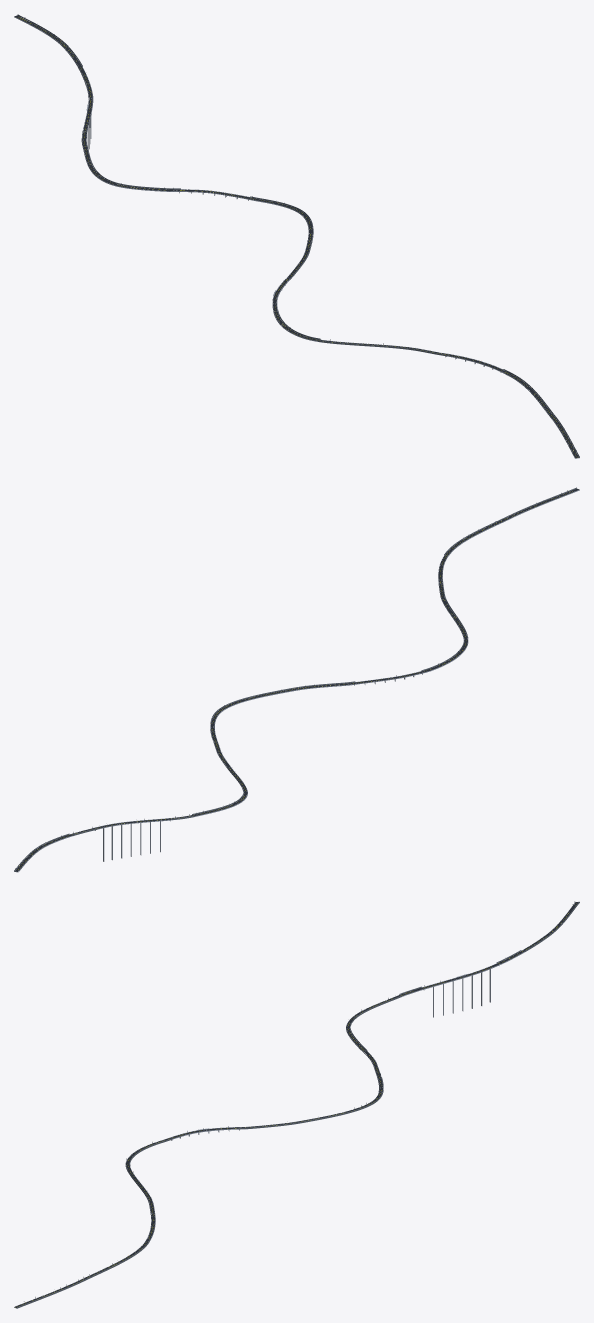
The model's file is deo_prenn_4lanes_viaducts.glb.
The picture shows the model from 3 angles, top to bottom: view 1: azimuth 30°, elevation 25°; view 2: azimuth 150°, elevation 25°; view 3: azimuth 330°, elevation 25°; orthographic projection. The views are drawn at different scales.
Parts seen in each view (by area): view 1: DeoPrenn_Asphalt_Roadway_Surface, DeoPrenn_Shoulders_And_Subgrade_Skirt, DeoPrenn_SplitGranite_Taluy_RetainingWalls; view 2: DeoPrenn_Asphalt_Roadway_Surface, DeoPrenn_Shoulders_And_Subgrade_Skirt, DeoPrenn_SplitGranite_Taluy_RetainingWalls, DeoPrenn_Cantilever_Viaducts_And_TPiers; view 3: DeoPrenn_Asphalt_Roadway_Surface, DeoPrenn_SplitGranite_Taluy_RetainingWalls, DeoPrenn_Cantilever_Viaducts_And_TPiers, DeoPrenn_Shoulders_And_Subgrade_Skirt.
Boxes of the visible parts, x1=… form: DeoPrenn_Asphalt_Roadway_Surface: x1=15, y1=15, x2=578, y2=457; DeoPrenn_Shoulders_And_Subgrade_Skirt: x1=14, y1=16, x2=579, y2=458; DeoPrenn_SplitGranite_Taluy_RetainingWalls: x1=17, y1=14, x2=579, y2=457; DeoPrenn_Asphalt_Roadway_Surface: x1=15, y1=488, x2=578, y2=871; DeoPrenn_Shoulders_And_Subgrade_Skirt: x1=14, y1=489, x2=579, y2=872; DeoPrenn_SplitGranite_Taluy_RetainingWalls: x1=14, y1=487, x2=576, y2=871; DeoPrenn_Cantilever_Viaducts_And_TPiers: x1=93, y1=555, x2=448, y2=861; DeoPrenn_Asphalt_Roadway_Surface: x1=15, y1=902, x2=578, y2=1307; DeoPrenn_SplitGranite_Taluy_RetainingWalls: x1=17, y1=902, x2=579, y2=1308; DeoPrenn_Cantilever_Viaducts_And_TPiers: x1=145, y1=962, x2=500, y2=1241; DeoPrenn_Shoulders_And_Subgrade_Skirt: x1=14, y1=903, x2=574, y2=1308.
Bounding box in the file's own units: 605 × 225 × 4475.
